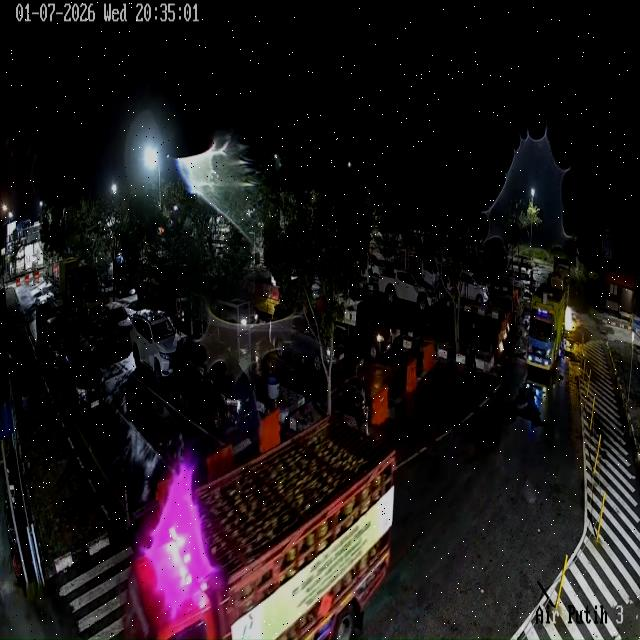Golongan IVA: (174, 340, 259, 435), (270, 304, 346, 374), (336, 298, 401, 359), (130, 310, 180, 386), (60, 334, 106, 416), (42, 316, 70, 370), (100, 301, 132, 347), (36, 300, 54, 342)
Golongan IVB: (378, 270, 438, 312)
Golongan VB: (124, 414, 396, 640), (527, 274, 568, 371), (58, 257, 102, 322)
